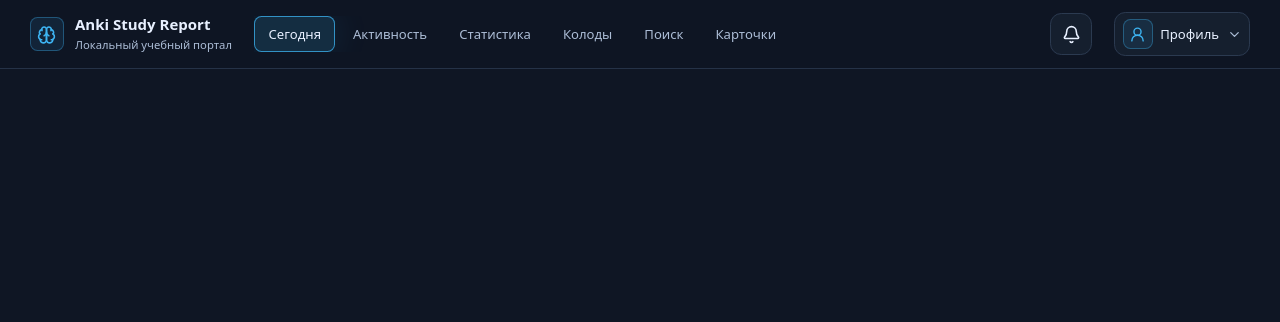
it: TopNav › opens an accessible profile dropdown with current account and utility routes
Click the button with aria-label "Открыть меню профиля" at (1182,34), box [1114,12,1250,56]
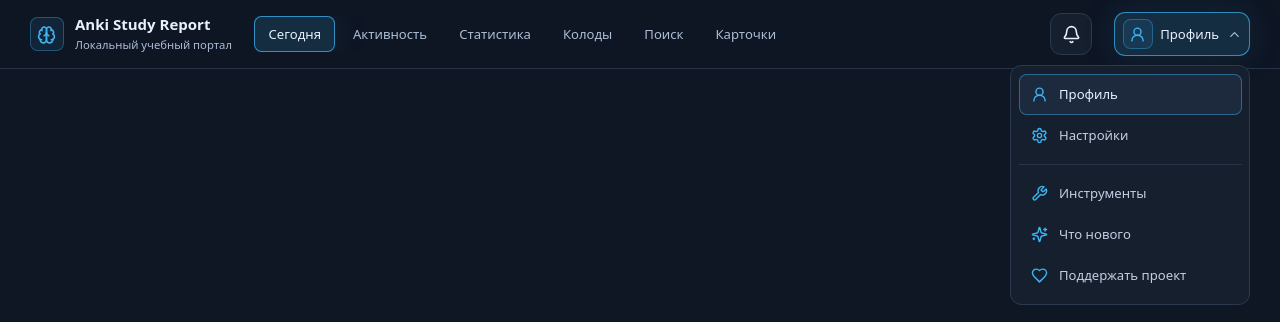
Expected: the button with aria-label "Открыть меню профиля" is expanded, [1114,12,1250,56]
